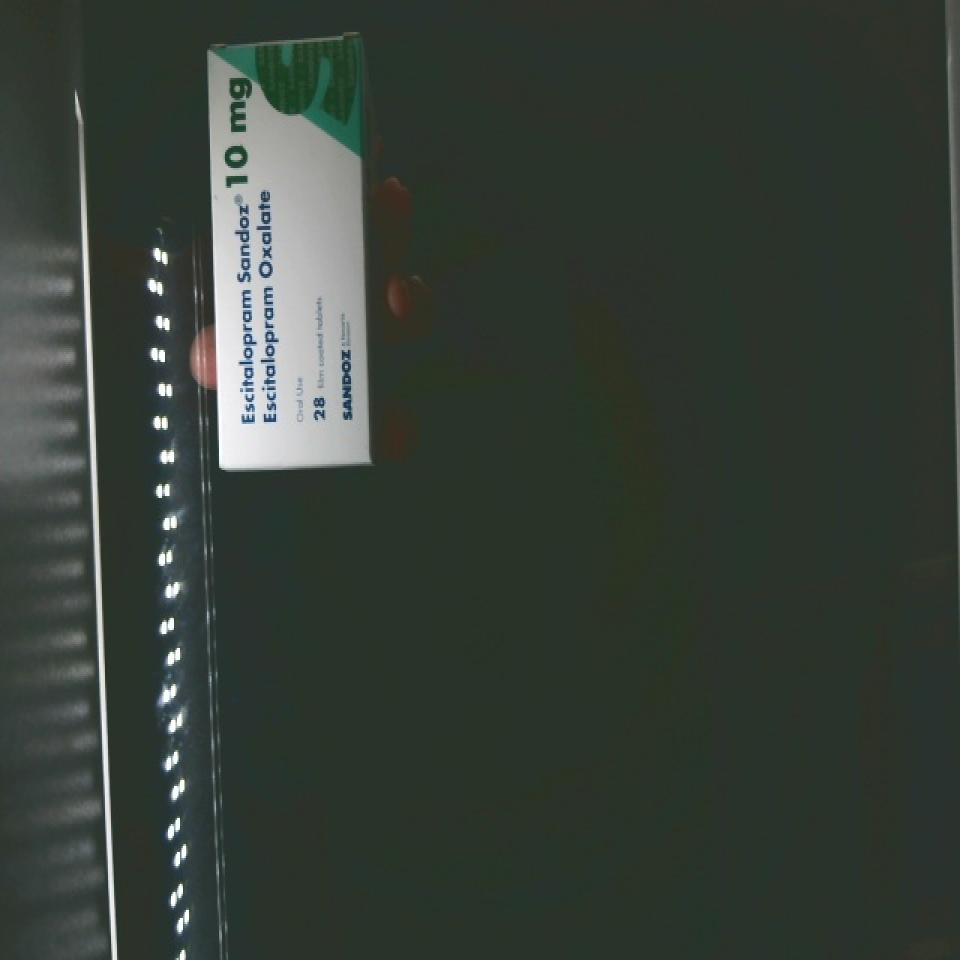medicine_box: (206, 41, 372, 469)
medicine_label_obb: (211, 180, 295, 452)
